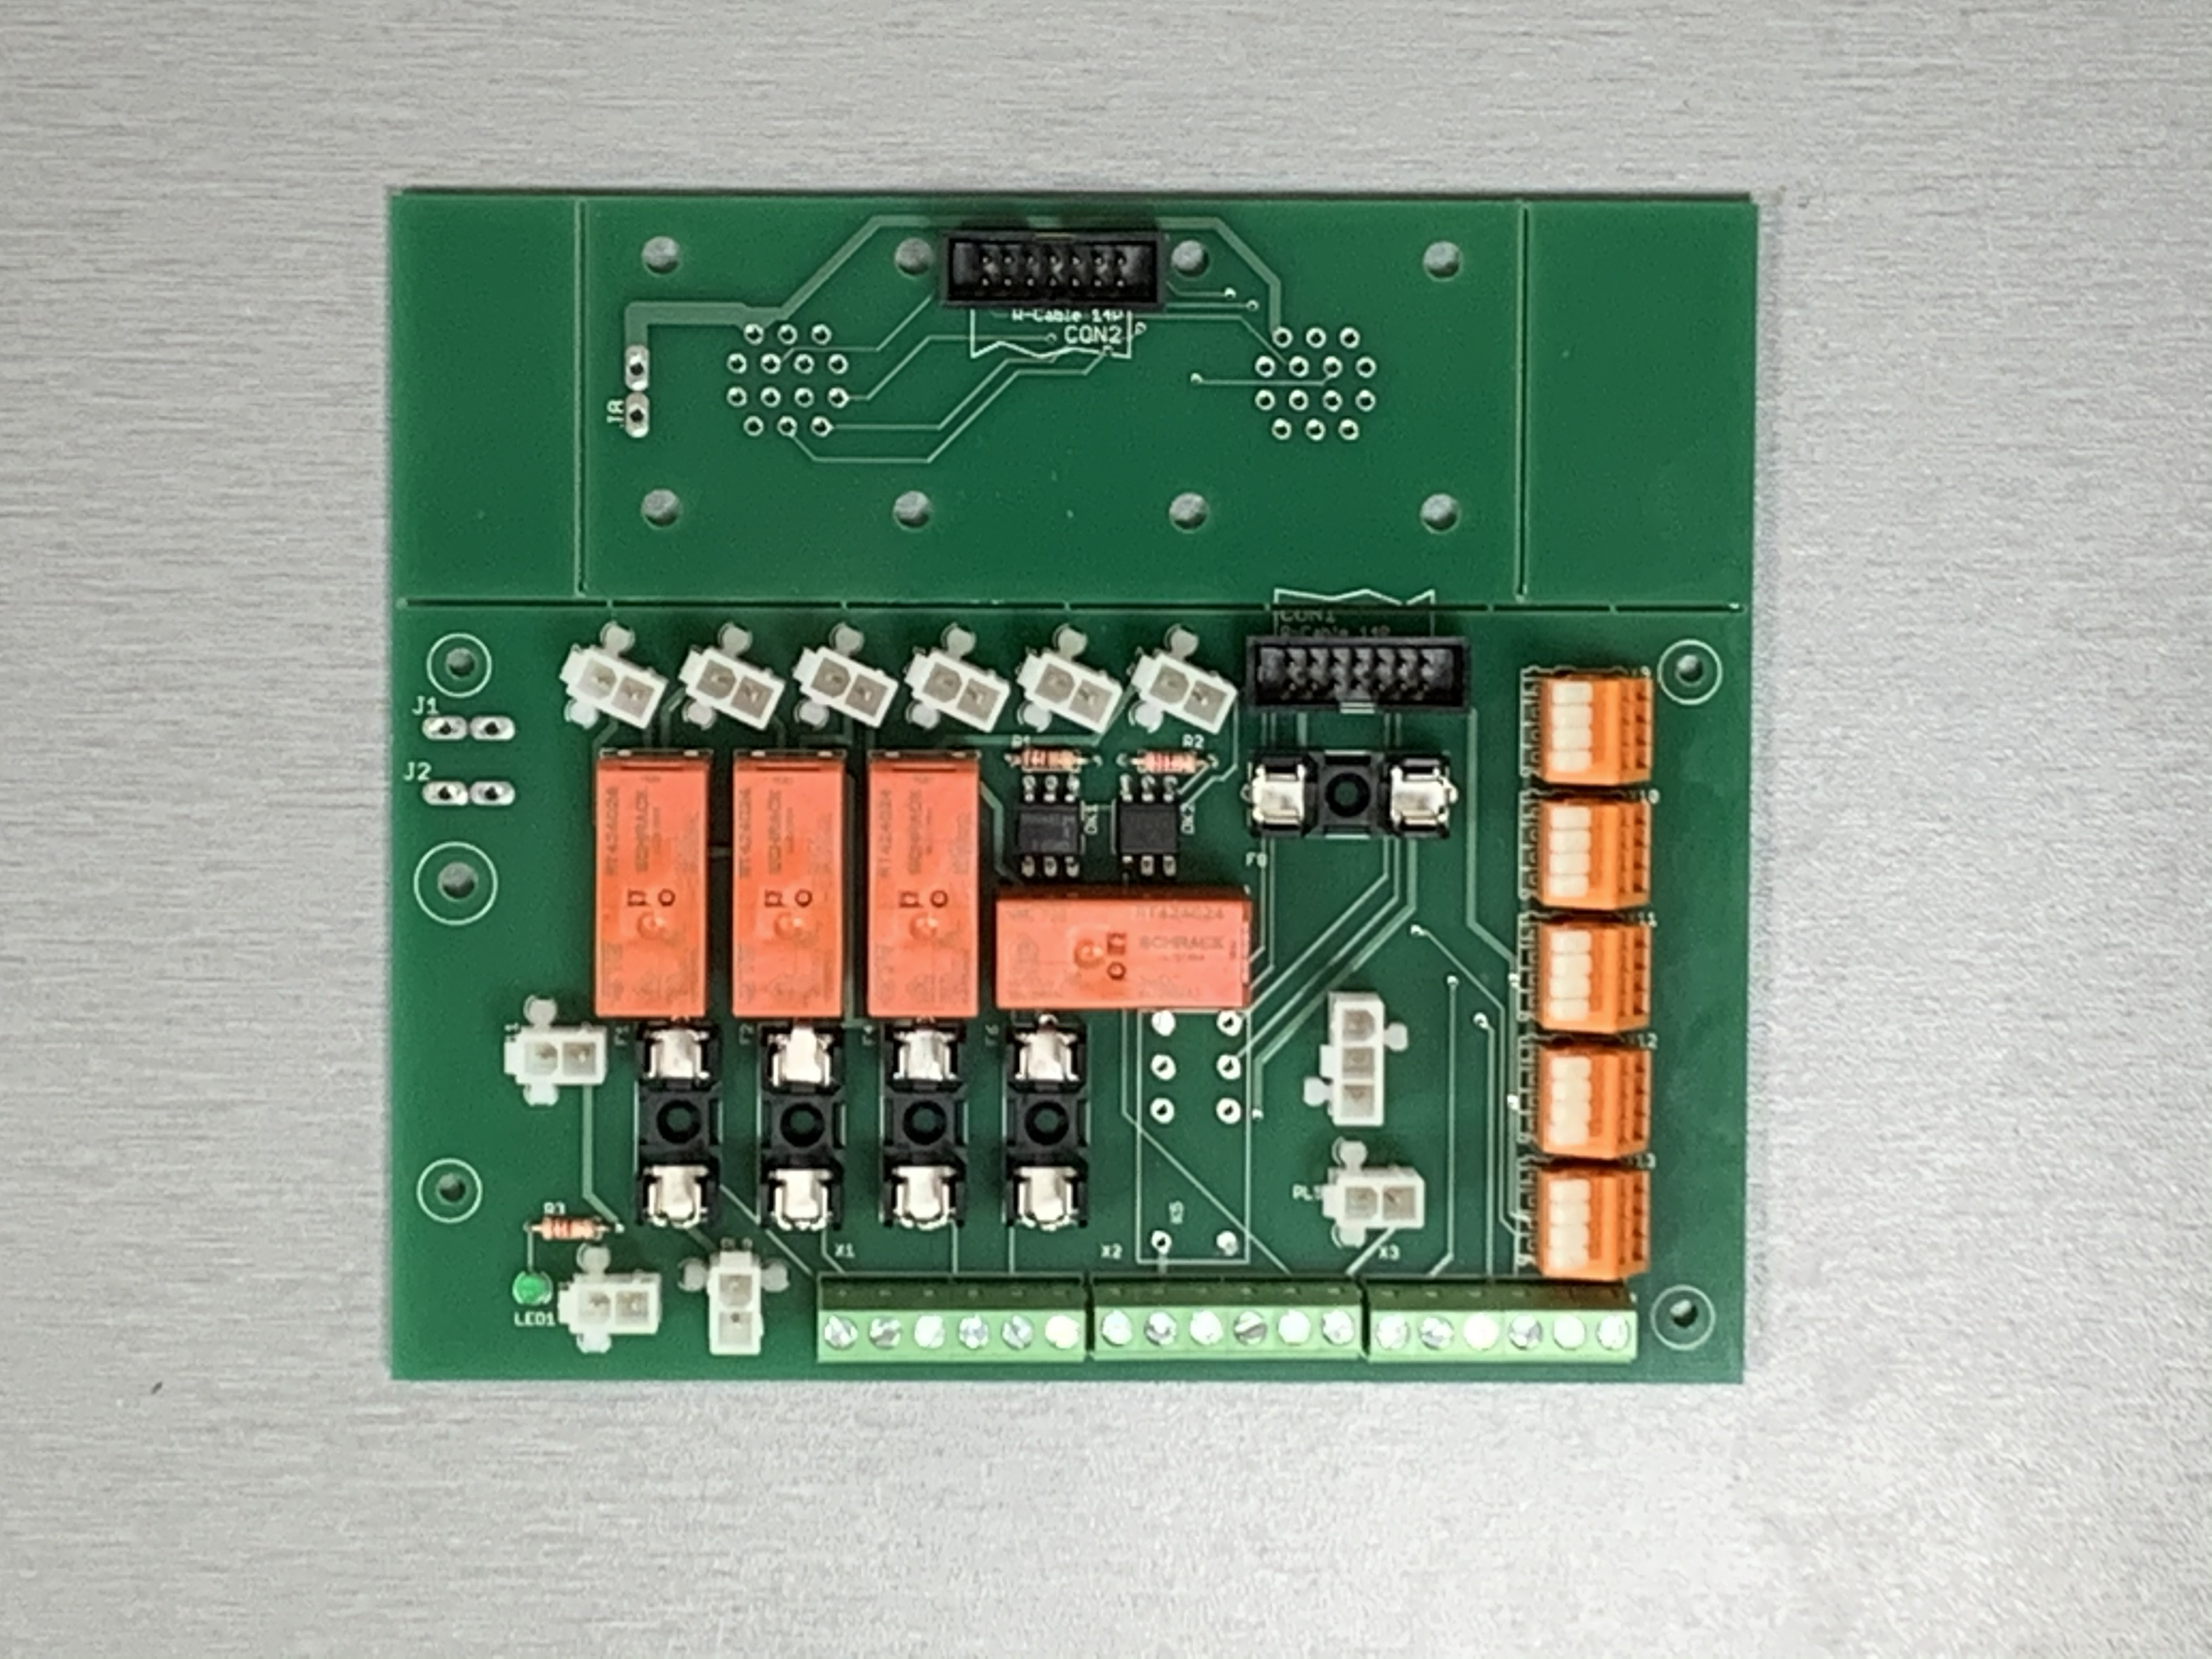LED: (510, 1269, 554, 1310)
Resistor: (1012, 741, 1087, 775), (529, 1213, 611, 1244), (1129, 746, 1204, 779)
